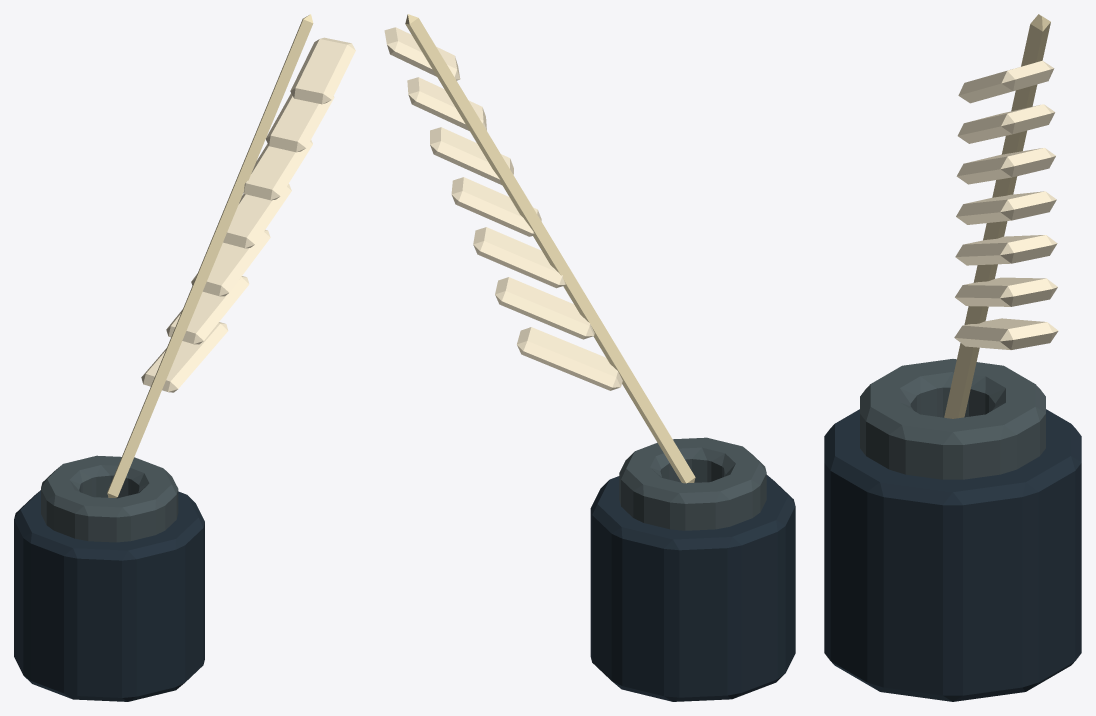
The model's file is inkwell_quill.glb.
The picture shows the model from 3 angles, left to right: view 1: azimuth 30°, elevation 25°; view 2: azimuth 150°, elevation 25°; view 3: azimuth 270°, elevation 25°; orthographic projection. The views are drawn at different scales.
Visible parts, largest first — view 1: inkwell_quill__body__ink, inkwell_quill__body__white, inkwell_quill__body__metal, inkwell_quill__body__linen; view 2: inkwell_quill__body__ink, inkwell_quill__body__white, inkwell_quill__body__metal, inkwell_quill__body__linen; view 3: inkwell_quill__body__ink, inkwell_quill__body__metal, inkwell_quill__body__white, inkwell_quill__body__linen.
Part boxes in pixels (x1,y1,x2,y2): inkwell_quill__body__ink: (14,490,204,701); inkwell_quill__body__white: (141,37,355,392); inkwell_quill__body__metal: (41,455,178,542); inkwell_quill__body__linen: (107,14,313,497); inkwell_quill__body__ink: (590,475,795,701); inkwell_quill__body__white: (384,27,622,390); inkwell_quill__body__metal: (619,437,766,530); inkwell_quill__body__linen: (405,14,695,483); inkwell_quill__body__ink: (824,409,1081,701); inkwell_quill__body__metal: (860,359,1045,479); inkwell_quill__body__white: (954,60,1058,349); inkwell_quill__body__linen: (944,14,1050,418).
Size of the model in its own units: 0.3123 by 0.49 by 0.1446.
